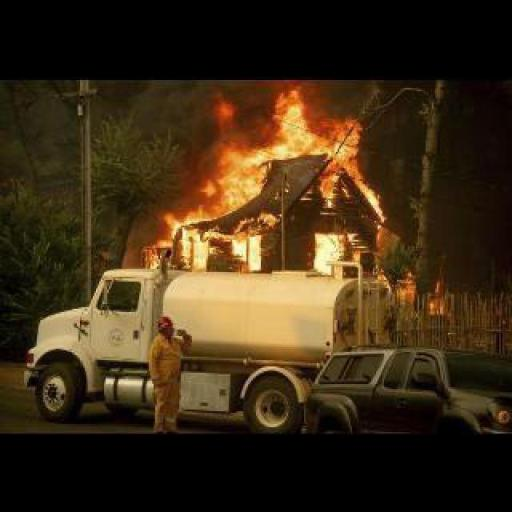smoke: (139, 85, 381, 270), (390, 269, 446, 318)
